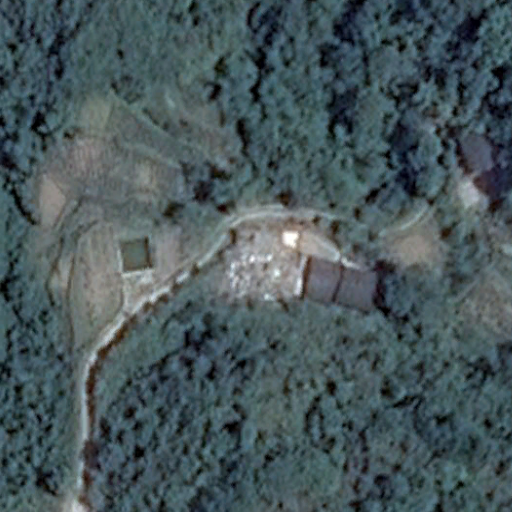msw: (225, 224, 298, 297)
